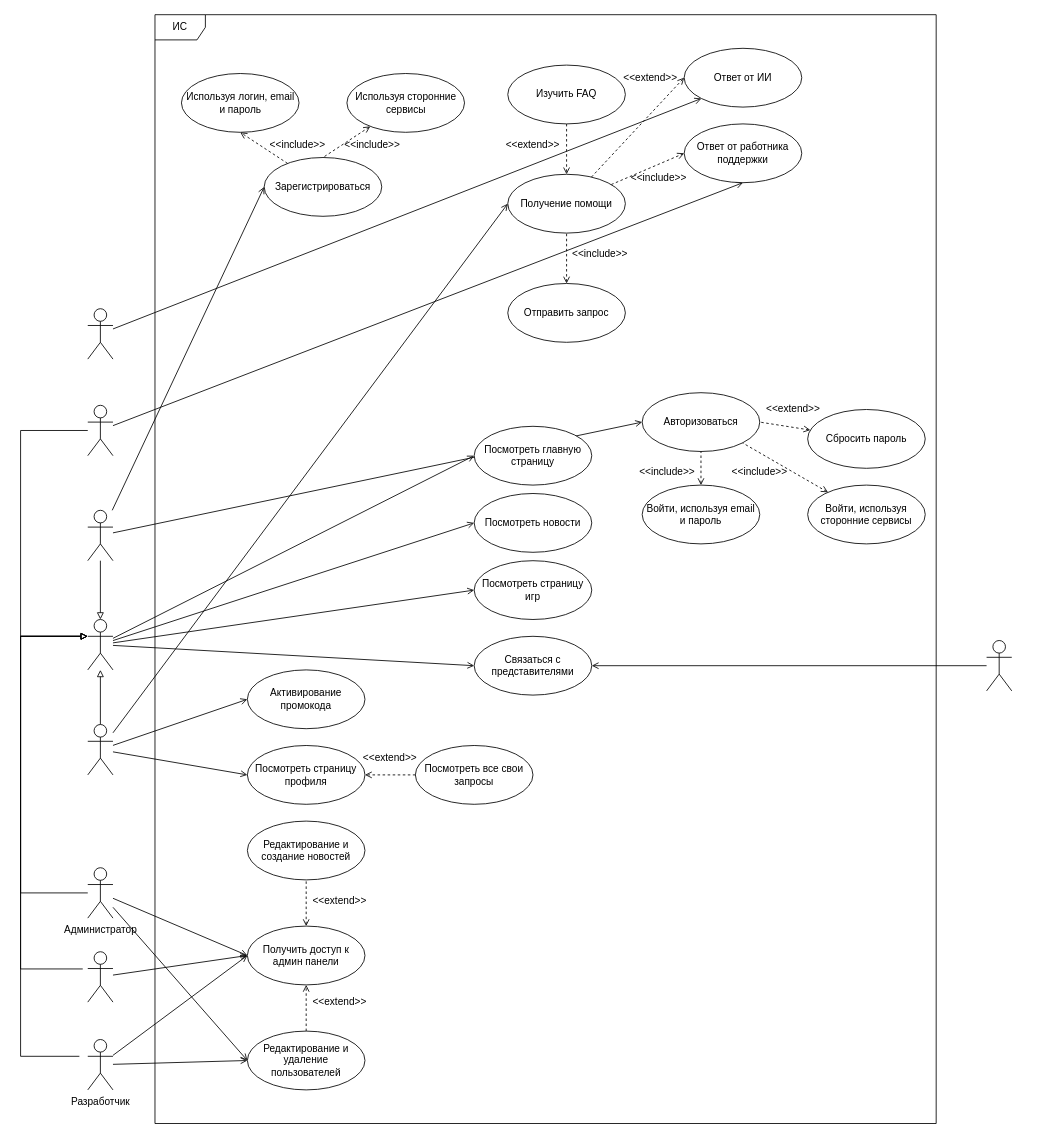
Image size: 1049x1138. Some labels were removed from this diagram. The shapes that lost their labels are listed below. From the top down, each one's box as (x1, y1, x2, y2) in pixels, then its label:
(87, 308, 113, 359): ИИ
(87, 404, 113, 456): Поддержка
(87, 509, 113, 561): Неавторизованный пользователь
(87, 619, 113, 670): Пользователь
(986, 640, 1012, 691): Представитель
(87, 724, 113, 775): Авторизованный пользователь
(87, 951, 113, 1002): Редактор
